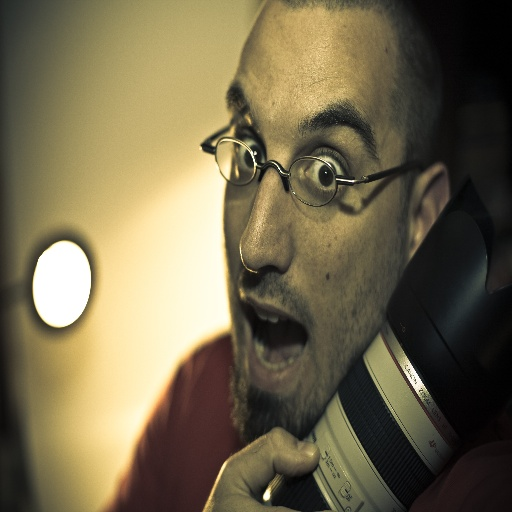hand: (222, 429, 350, 499)
